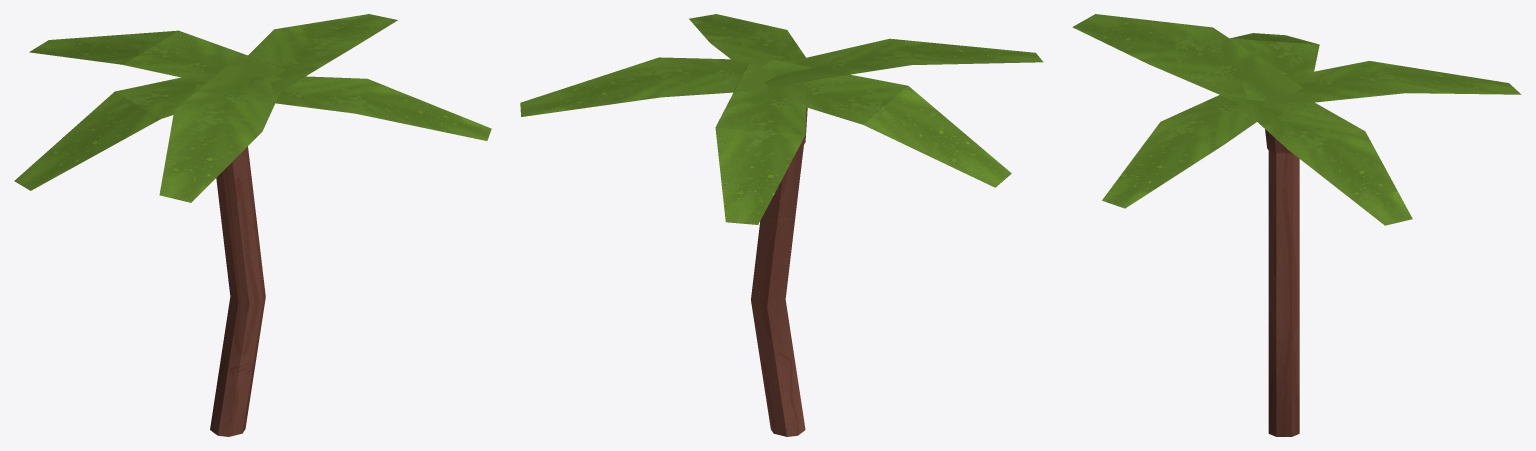
Rendered from SM_palm2.fbx.
3 views of the same model, side by side, from view 1: azimuth 30°, elevation 25°; view 2: azimuth 150°, elevation 25°; view 3: azimuth 270°, elevation 25° (orthographic). The views are drawn at different scales.
Visible parts, largest first — view 1: palm2; view 2: palm2; view 3: palm2.
Part boxes in pixels (box(x1,y1,x2,y2)): palm2: box(14, 14, 491, 436); palm2: box(520, 14, 1043, 436); palm2: box(1072, 14, 1521, 436).
Size of the model in its own units: 21.39 by 17.29 by 19.56.
